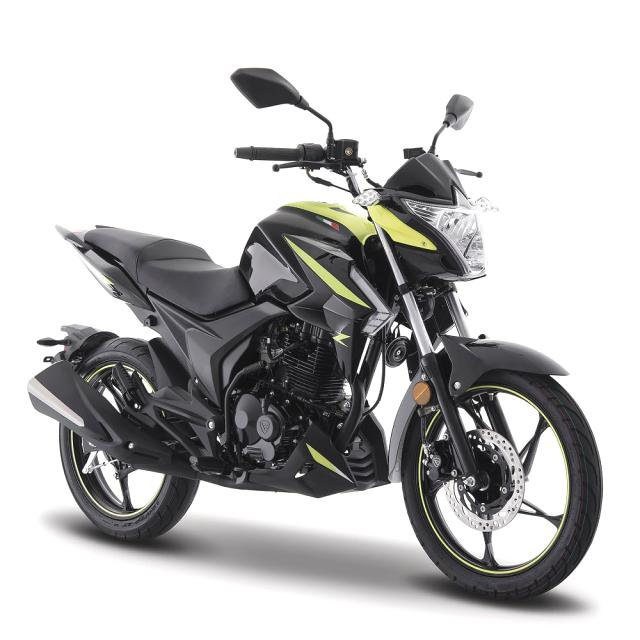MOTORCYCLE: (30, 127, 606, 601)
